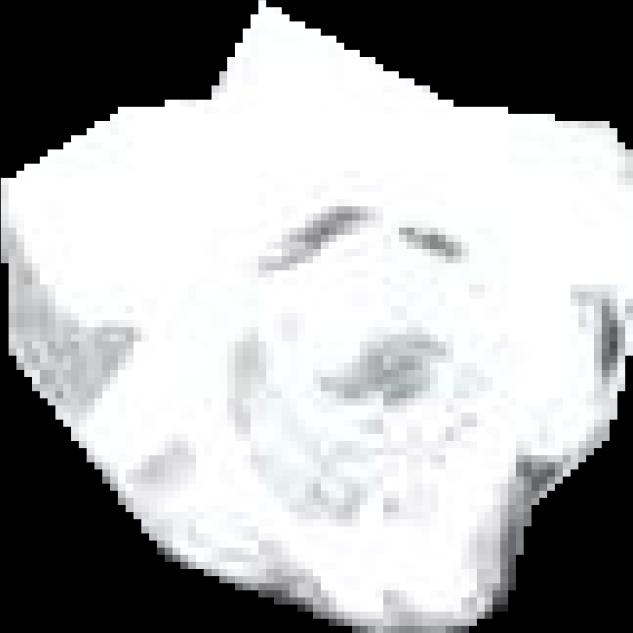tumor_less_chance: (1, 0, 633, 633)
